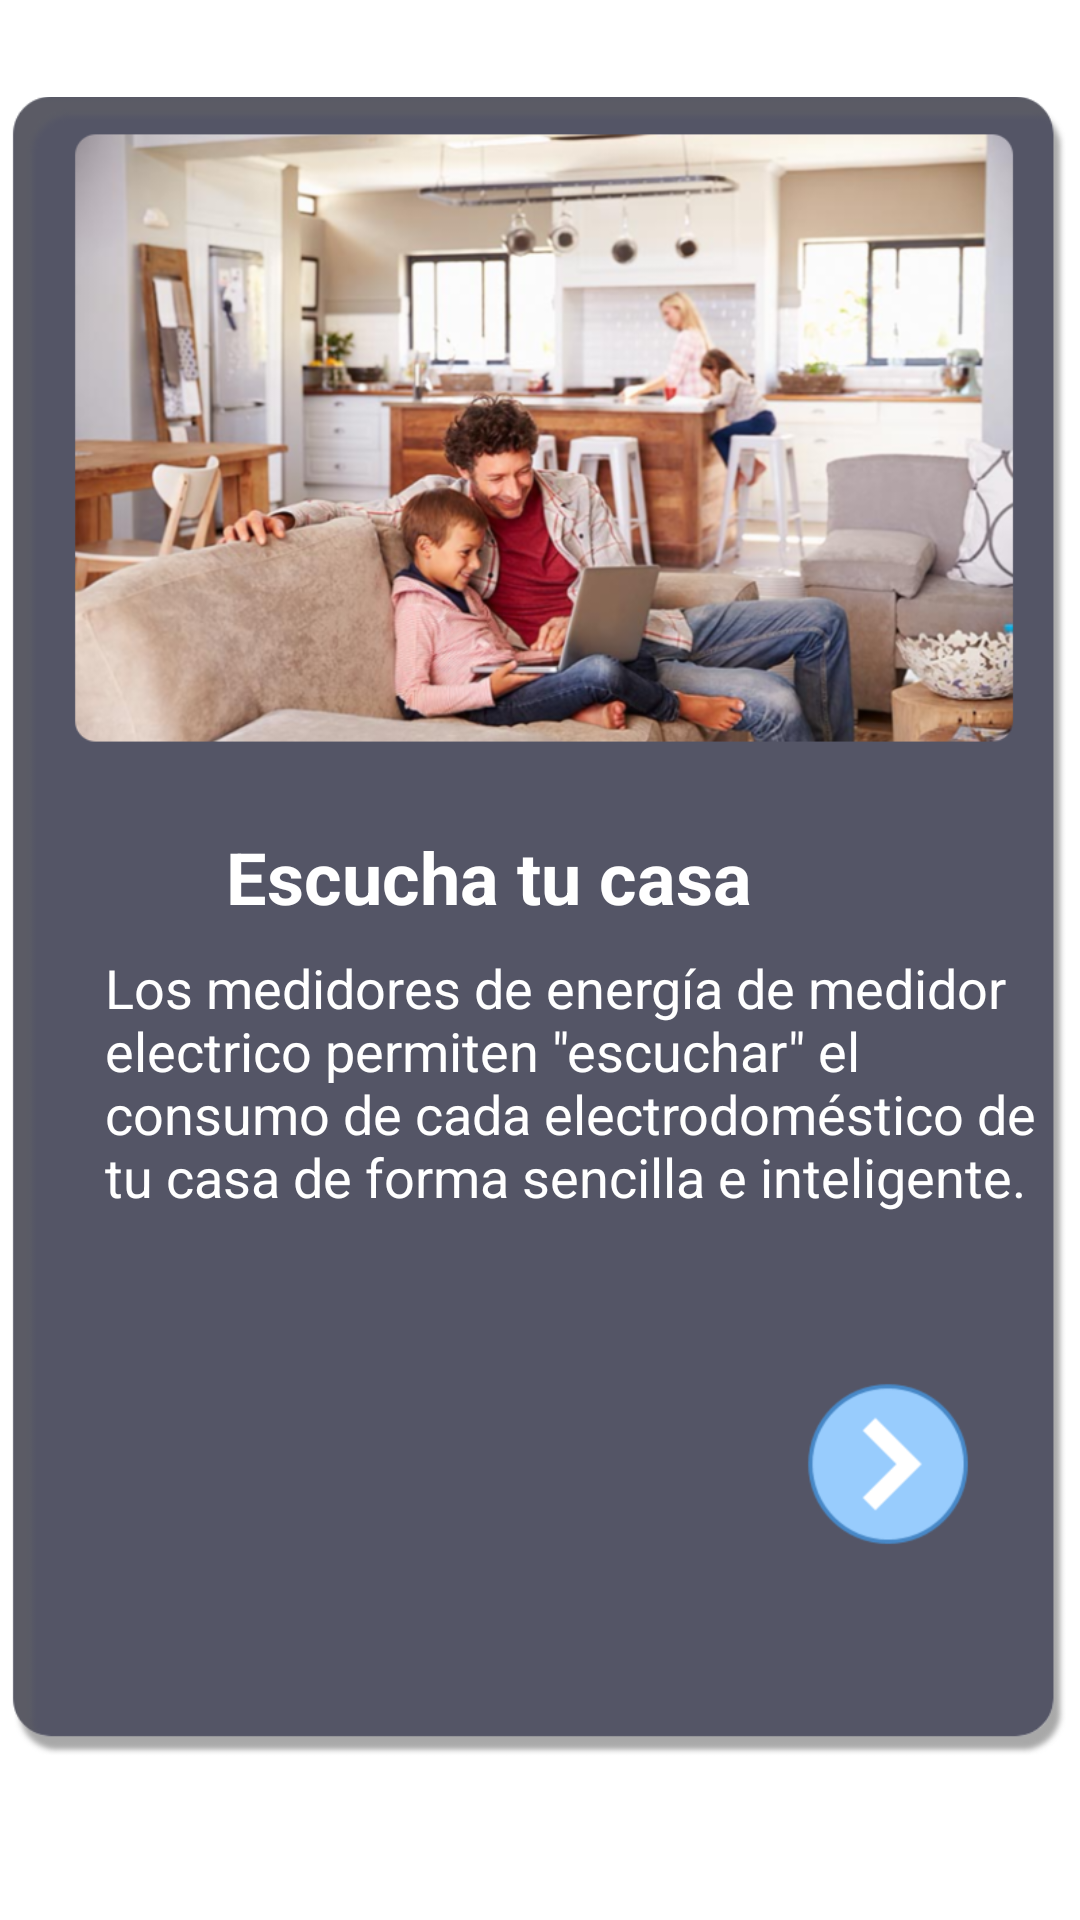

Where icons sit on this 1080x1920 app screen, as (x1, y1, x2, y2):
nexttool: (808, 1384, 968, 1544)
